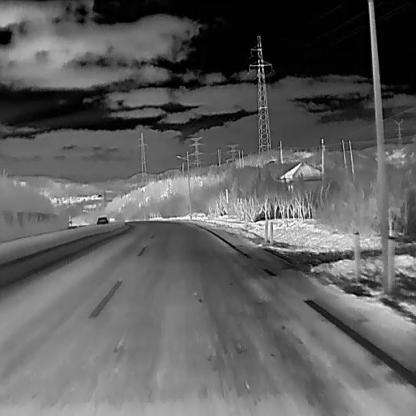car: (96, 215, 107, 225)
